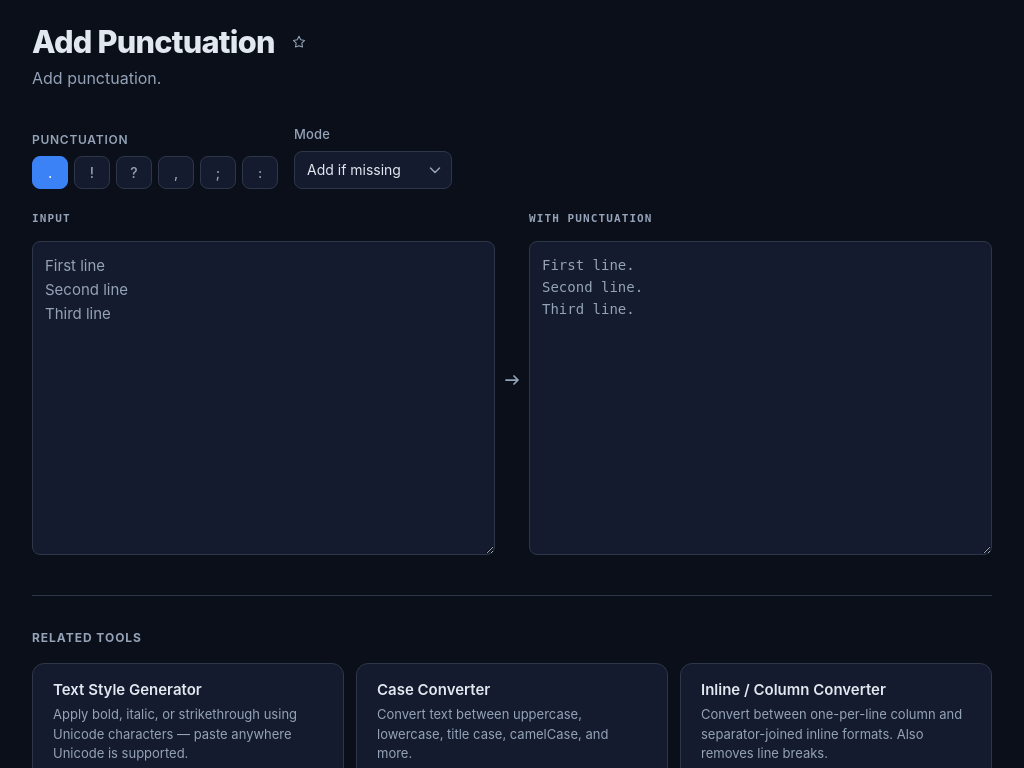
it: AddPunctuation › adds a period to lines missing punctuation
This screenshot has width=1024, height=768.
Type "Hello" into the text box named "input" at {"x": 264, "y": 398}, box [32, 240, 495, 554]
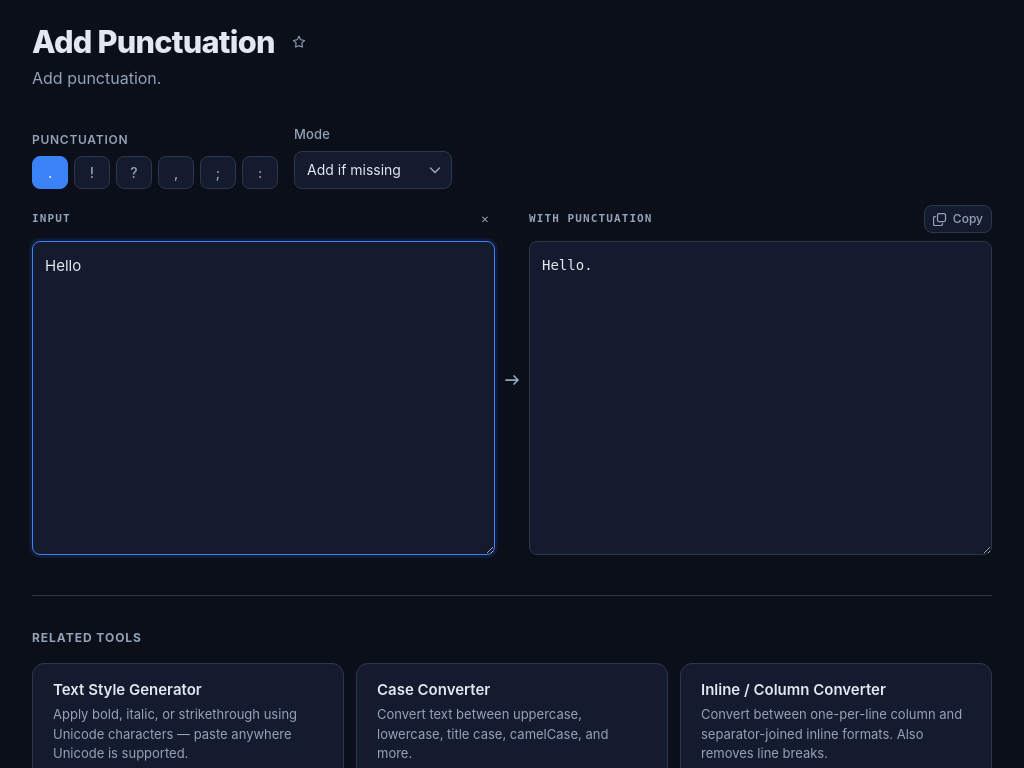
Expected: the text box named "with punctuation" holds "Hello.", [529, 240, 992, 554]
